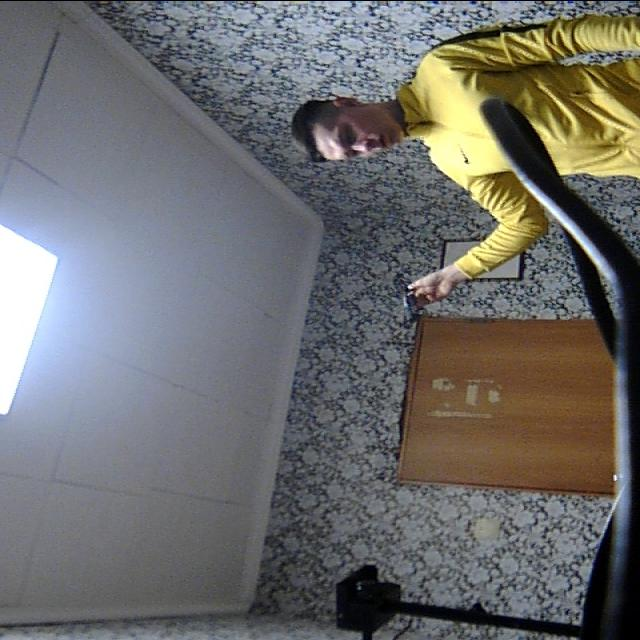drone: (380, 264, 434, 334)
